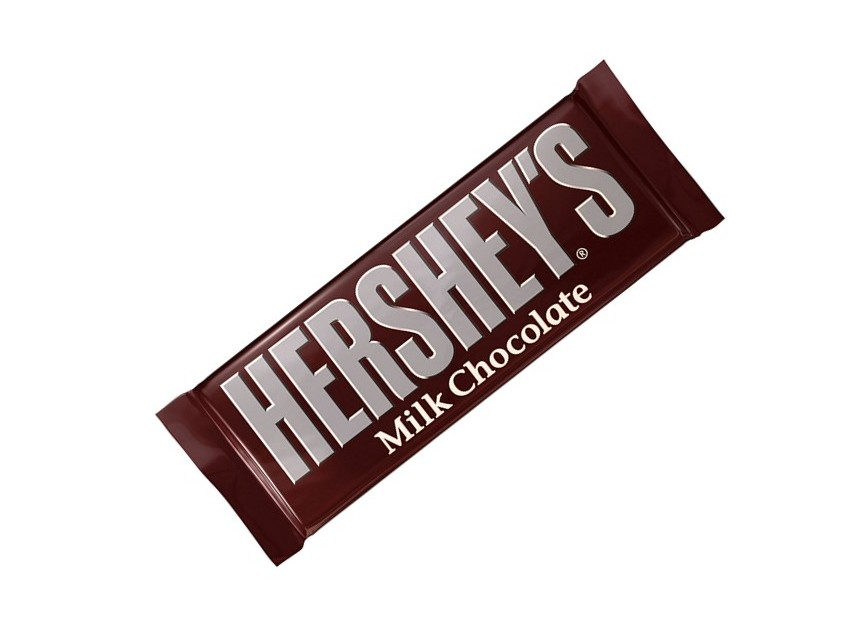hershey: (148, 66, 743, 571)
